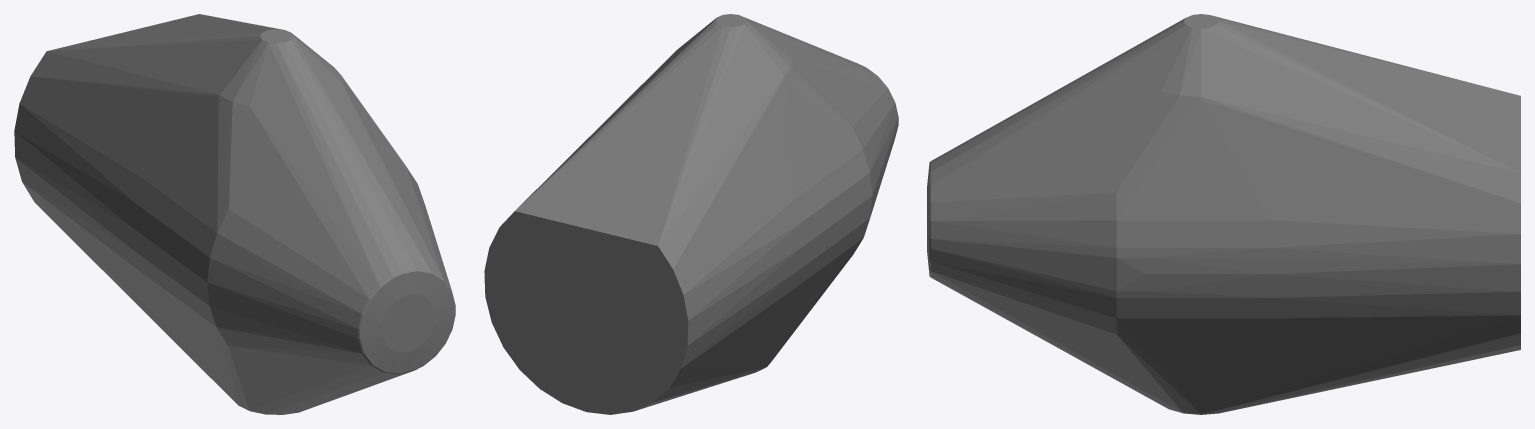
File: wrist_link_collision.dae
3 renders of one model, left to right at view 1: azimuth 30°, elevation 25°; view 2: azimuth 150°, elevation 25°; view 3: azimuth 270°, elevation 25°, orthographic. The views are drawn at different scales.
Parts seen in each view (by area): view 1: node; view 2: node; view 3: node.
Boxes of the visible parts, x1,y1,x2,y2 form: node: (14,14,455,414); node: (484,14,898,414); node: (927,14,1520,414).
Size of the model in its own units: 0.18 by 0.281 by 0.404.
1 material, 1 textured.
